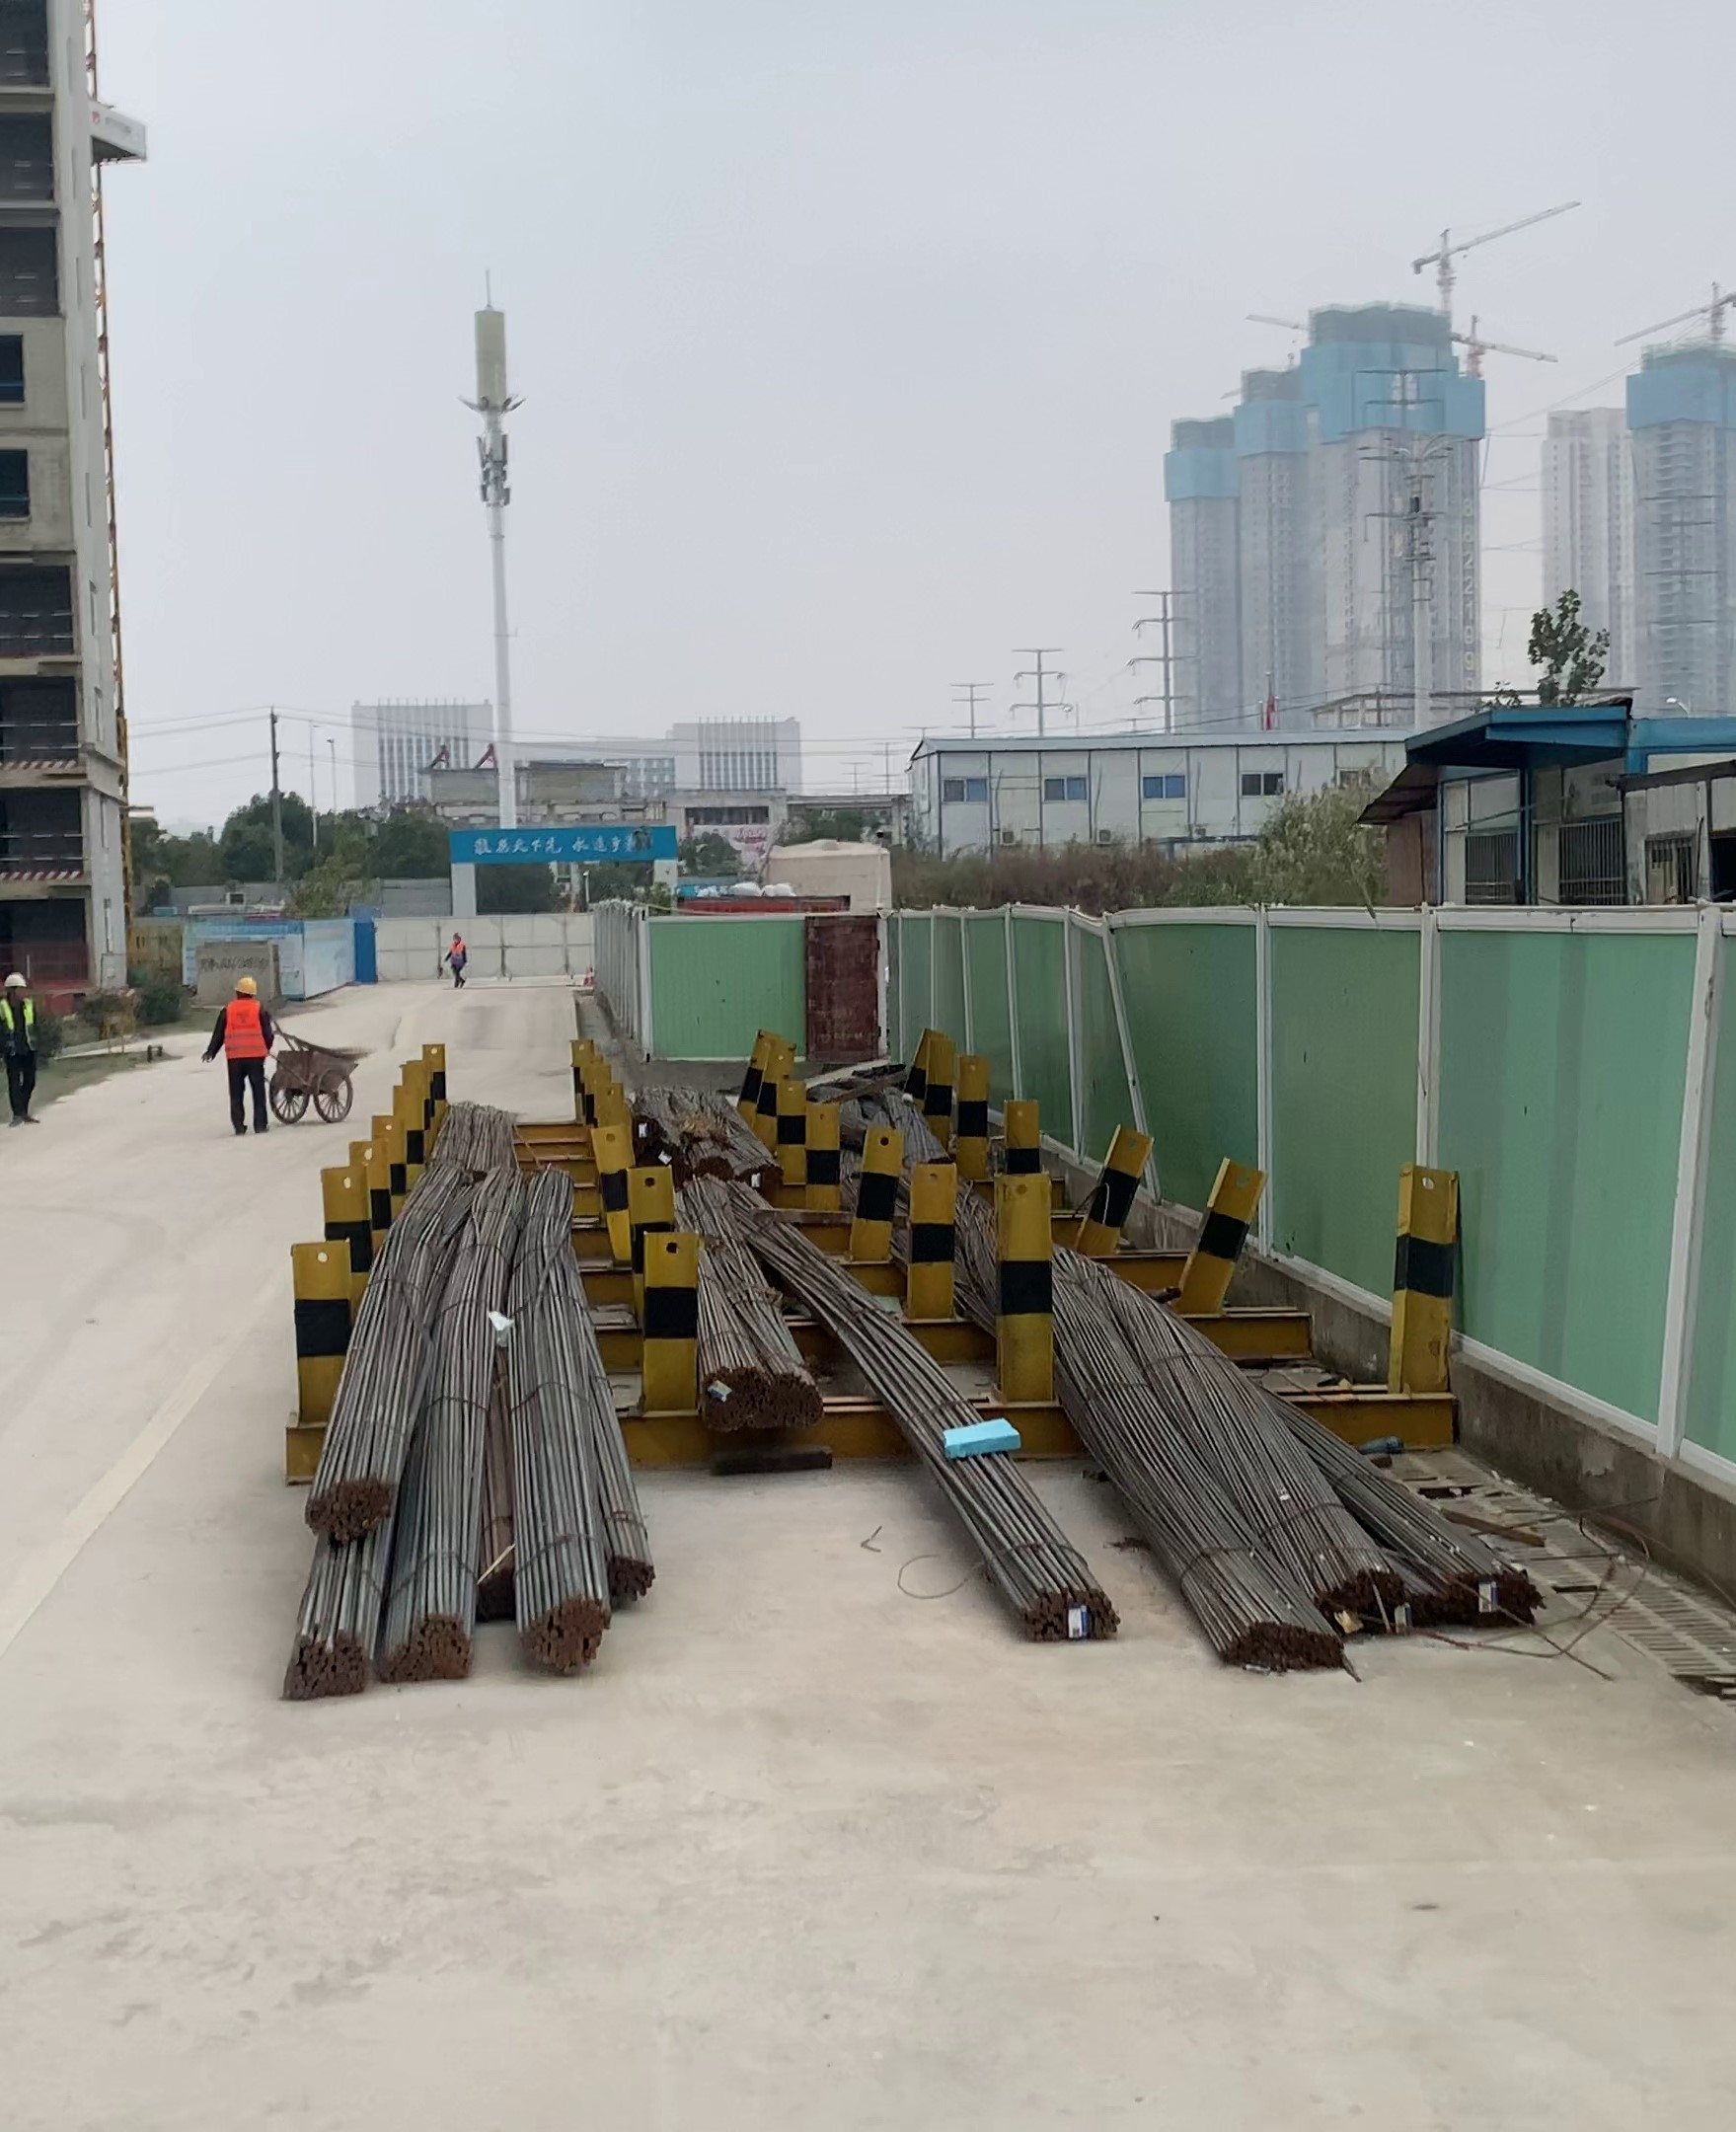rebar: (1215, 1611, 1350, 1679), (700, 1360, 829, 1429), (1410, 1565, 1532, 1631), (379, 1606, 473, 1691), (278, 1624, 370, 1698), (523, 1597, 608, 1672), (1020, 1574, 1114, 1641), (306, 1473, 391, 1546), (1318, 1565, 1407, 1626), (478, 1548, 524, 1622), (609, 1546, 655, 1615)
